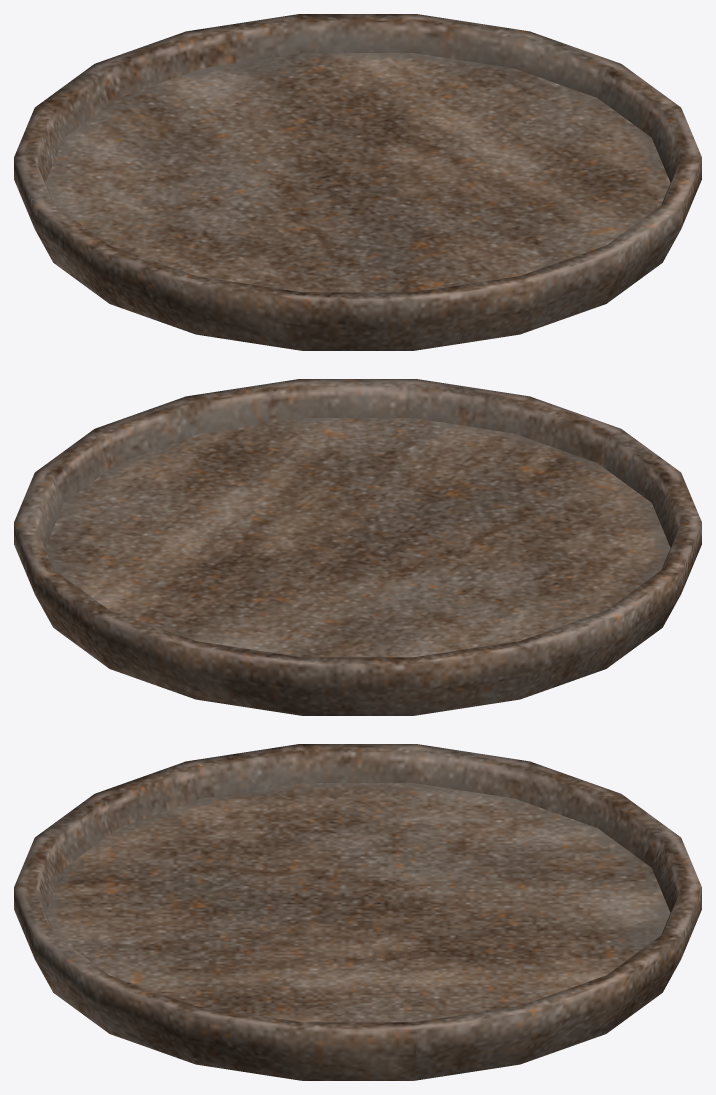
The model's file is SM_Plate_01.fbx.
3 views of the same model, one above another, from view 1: azimuth 30°, elevation 25°; view 2: azimuth 150°, elevation 25°; view 3: azimuth 270°, elevation 25° (orthographic).
Parts seen in each view (by area): view 1: SM_Plate_01_LOD0; view 2: SM_Plate_01_LOD0; view 3: SM_Plate_01_LOD0.
Part boxes in pixels (x1,y1,x2,y2): SM_Plate_01_LOD0: [14, 14, 701, 350]; SM_Plate_01_LOD0: [14, 379, 701, 715]; SM_Plate_01_LOD0: [14, 744, 701, 1080].
Size of the model in its own units: 16.9 by 17.17 by 1.61.
1 material, 1 textured.
